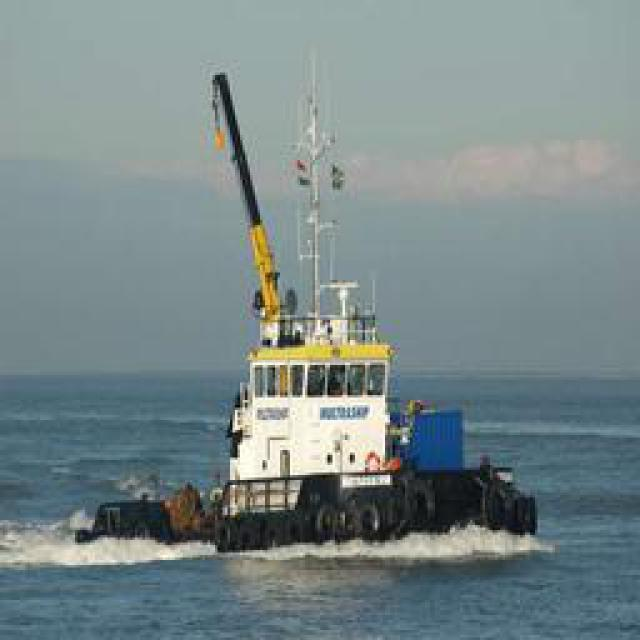Ship: (186, 46, 536, 559)
